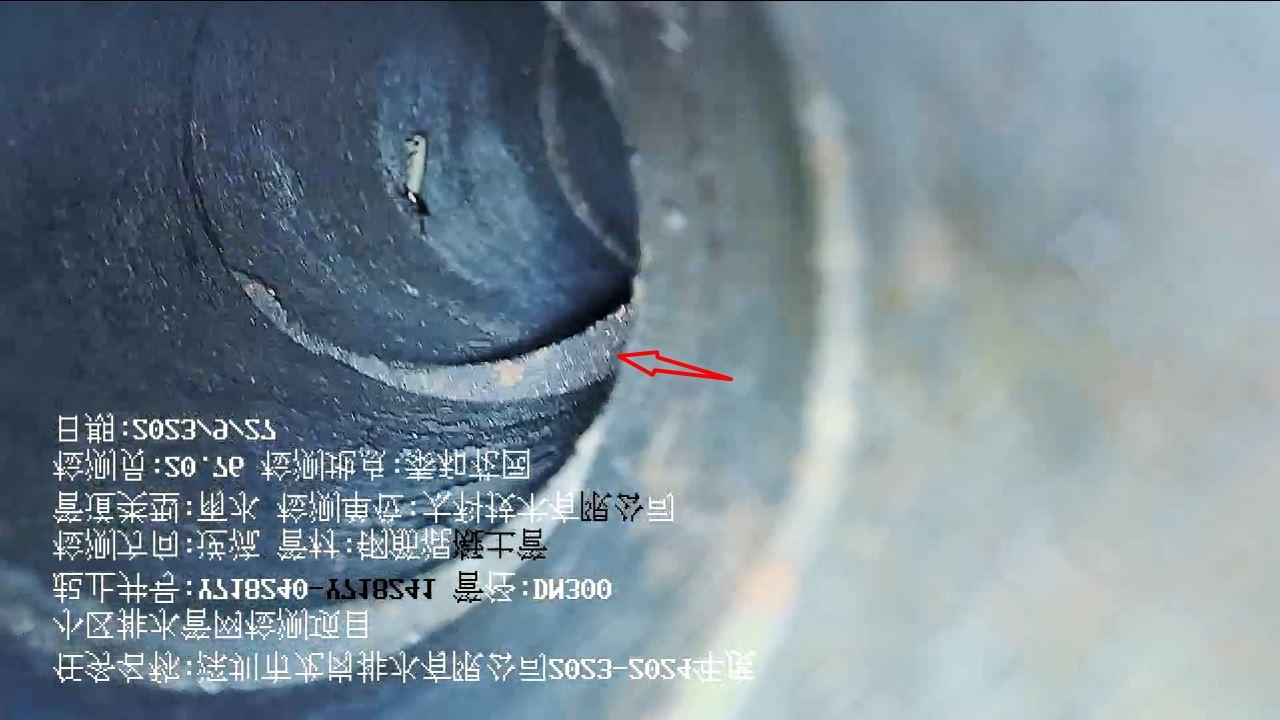CKTJ: (279, 305, 633, 403)
